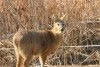elk: (13, 14, 67, 65)
